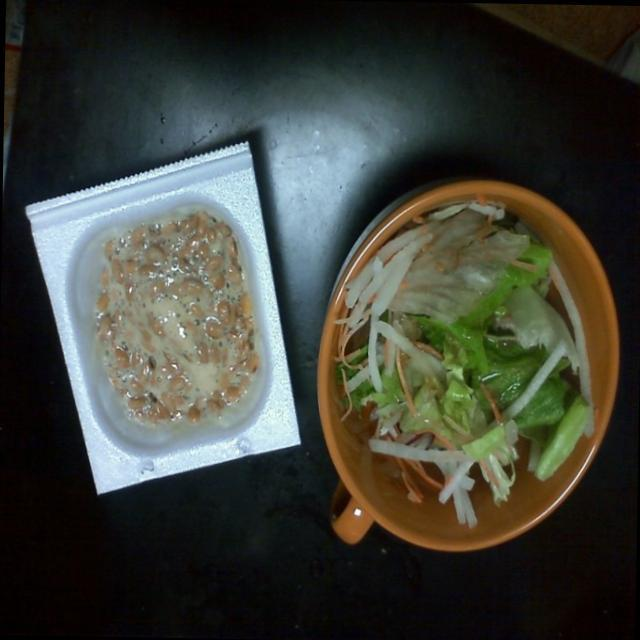Green Salad: (328, 195, 610, 530)
